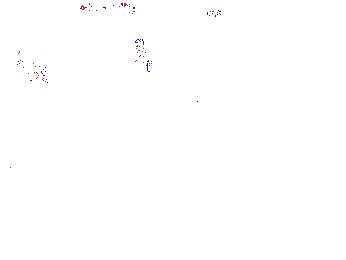red belly glassfish: (117, 1, 155, 21), (79, 2, 109, 14), (203, 6, 228, 18)
redtail glassfish: (12, 50, 48, 84), (132, 36, 157, 78)
siberian prawn: (1, 239, 89, 260)
